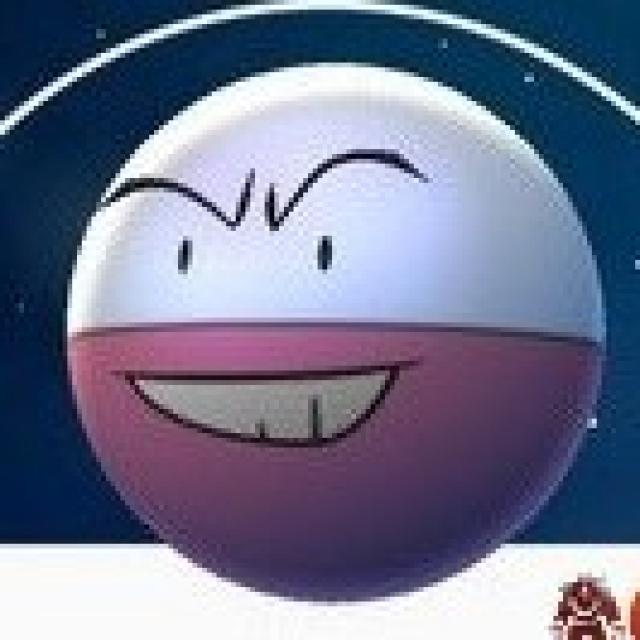Electrode: (60, 50, 605, 611)
